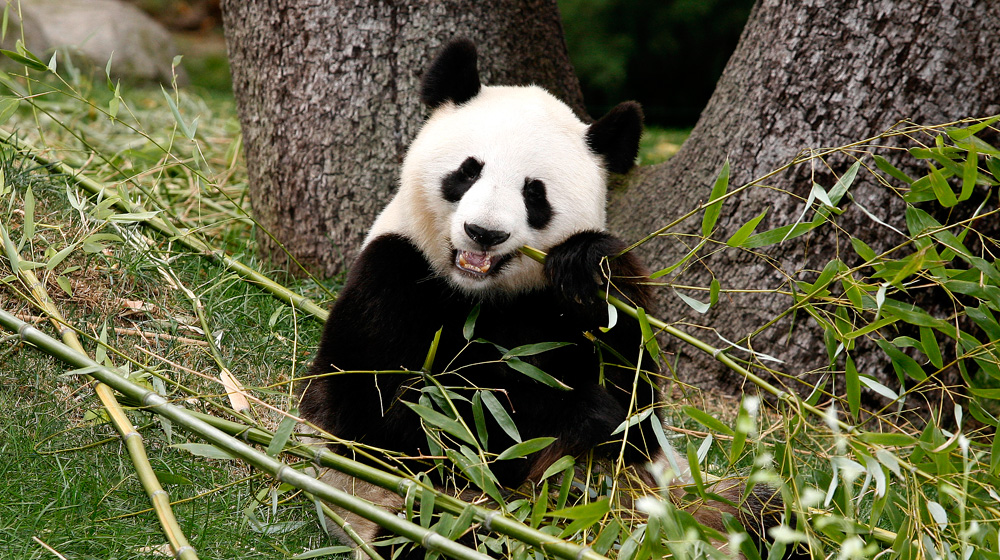Giant panda: (409, 35, 642, 298)
